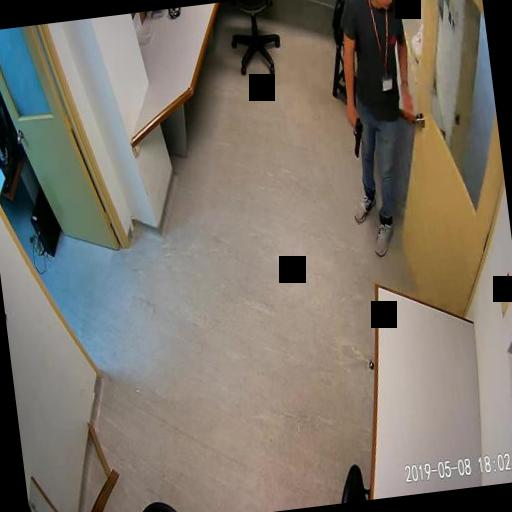Handgun: (348, 110, 366, 156)
